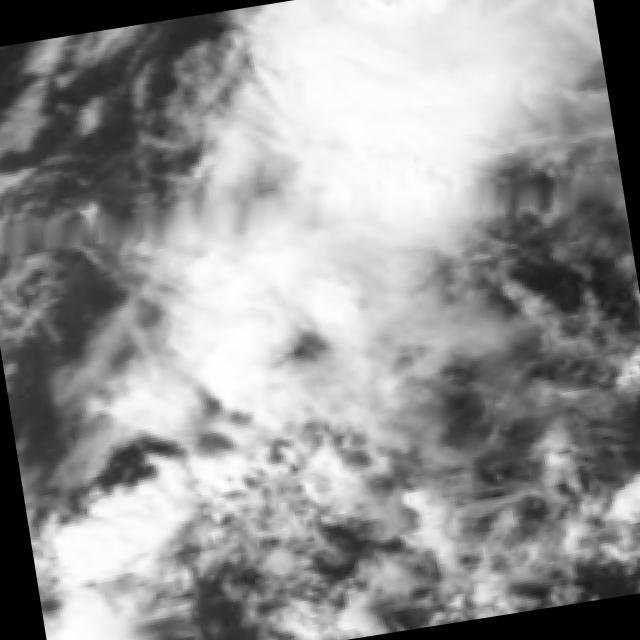CB: (307, 0, 516, 166)
